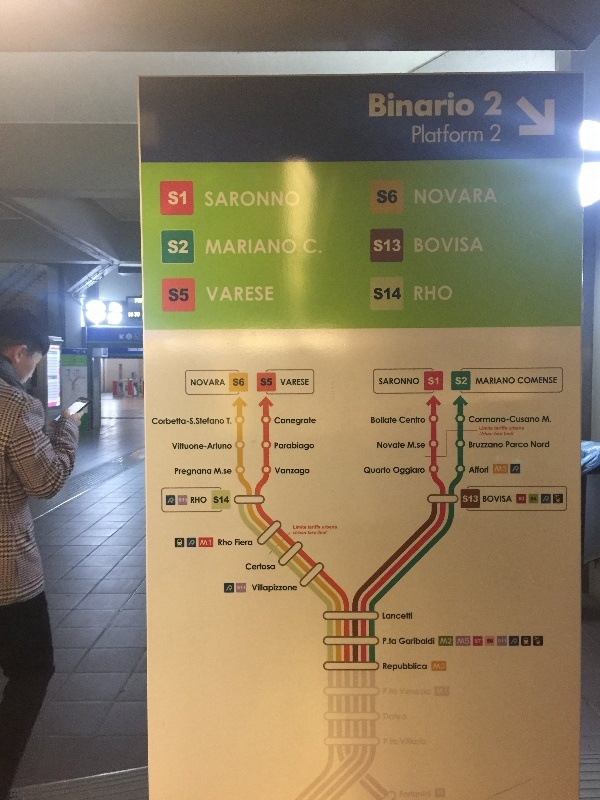text: (369, 90, 384, 121), (385, 90, 400, 121), (401, 90, 416, 121), (417, 90, 432, 121), (433, 90, 448, 121), (449, 90, 464, 121), (417, 124, 432, 148), (433, 124, 448, 148), (449, 124, 464, 148), (465, 124, 480, 148), (484, 89, 496, 118), (465, 90, 476, 121), (209, 189, 224, 211), (225, 189, 240, 211), (241, 189, 256, 211), (257, 189, 272, 211), (273, 189, 288, 211), (305, 238, 320, 259), (209, 284, 224, 304), (225, 284, 240, 304), (241, 284, 256, 304), (257, 284, 272, 304), (209, 238, 224, 257), (225, 238, 240, 257), (241, 238, 256, 257), (257, 238, 272, 257), (273, 238, 288, 257), (417, 186, 432, 205), (433, 186, 448, 205), (449, 186, 464, 205), (465, 186, 480, 205), (481, 186, 496, 205), (417, 236, 432, 254), (433, 236, 448, 254), (449, 236, 464, 254), (465, 236, 480, 254), (289, 189, 301, 211), (385, 238, 401, 253), (385, 286, 400, 301), (417, 286, 432, 301), (433, 286, 448, 301), (385, 189, 398, 205), (497, 89, 504, 118), (177, 287, 189, 302), (289, 238, 298, 257), (177, 240, 189, 254), (177, 190, 187, 206), (374, 238, 384, 253), (374, 286, 384, 301), (385, 662, 400, 672), (401, 662, 416, 672), (289, 442, 304, 452), (401, 415, 416, 425), (369, 466, 384, 476), (401, 466, 416, 476), (209, 417, 225, 426), (177, 442, 192, 451), (193, 442, 208, 451), (209, 442, 224, 451), (481, 415, 496, 424), (497, 415, 512, 424), (513, 415, 528, 424), (401, 790, 416, 799), (417, 790, 432, 799), (385, 713, 400, 722), (161, 417, 176, 426), (177, 417, 192, 426), (193, 417, 208, 426), (177, 468, 192, 477), (193, 468, 208, 477), (257, 584, 272, 593), (273, 584, 288, 593), (289, 417, 304, 426), (289, 467, 304, 476), (385, 377, 400, 386), (401, 377, 416, 386), (385, 441, 400, 450), (490, 123, 496, 145), (275, 442, 288, 452), (371, 415, 384, 425), (168, 190, 176, 206), (513, 441, 529, 449), (497, 495, 513, 503), (226, 417, 240, 426), (481, 377, 496, 385), (497, 377, 512, 385), (529, 376, 544, 384), (481, 441, 496, 449), (545, 495, 560, 503), (401, 738, 416, 746), (401, 688, 416, 696), (417, 688, 432, 696), (385, 612, 400, 620), (401, 637, 416, 645), (417, 637, 432, 645), (513, 637, 528, 645), (257, 563, 272, 571), (289, 378, 304, 386), (385, 415, 397, 425), (385, 687, 398, 696), (275, 417, 288, 426), (275, 467, 288, 476), (168, 240, 176, 254), (377, 189, 384, 205), (465, 495, 479, 503), (193, 496, 207, 504), (417, 662, 428, 672), (169, 287, 176, 302), (193, 379, 208, 386), (209, 379, 224, 386), (531, 440, 544, 448), (515, 465, 528, 473), (483, 495, 496, 503), (385, 738, 398, 746), (435, 662, 448, 670), (305, 442, 315, 452), (455, 376, 464, 387), (469, 415, 480, 424), (529, 415, 540, 424), (261, 378, 272, 387), (305, 417, 316, 426), (412, 124, 416, 148), (545, 376, 557, 384), (401, 612, 413, 620), (241, 539, 253, 547), (417, 415, 426, 425), (204, 189, 208, 211), (497, 123, 501, 145), (469, 441, 480, 449), (213, 496, 224, 504), (385, 638, 397, 645), (228, 585, 240, 592), (471, 465, 480, 474), (289, 584, 298, 593), (204, 284, 208, 304), (518, 376, 528, 384), (417, 738, 427, 746), (438, 688, 448, 696), (246, 563, 256, 571), (417, 466, 425, 476), (179, 497, 192, 503), (225, 442, 233, 451), (481, 124, 484, 148), (481, 236, 485, 254), (481, 465, 489, 474), (152, 417, 160, 426), (215, 467, 224, 475), (417, 441, 426, 449), (497, 466, 507, 473), (498, 639, 512, 644), (233, 377, 240, 387), (322, 525, 336, 530), (393, 466, 400, 476), (433, 376, 439, 387), (531, 496, 544, 501), (225, 539, 233, 547), (280, 378, 288, 386), (408, 441, 416, 449), (377, 441, 384, 450), (449, 286, 453, 301), (481, 426, 493, 431), (513, 426, 525, 431), (481, 432, 493, 437), (308, 525, 320, 530), (308, 531, 320, 536), (385, 466, 391, 476), (545, 415, 552, 423), (497, 441, 504, 449), (225, 467, 232, 475), (497, 426, 508, 431), (293, 525, 304, 530), (427, 376, 432, 387), (401, 713, 407, 722), (378, 377, 384, 386), (294, 531, 304, 536), (441, 638, 448, 645), (201, 539, 208, 546), (506, 441, 512, 449), (458, 637, 464, 645), (218, 539, 224, 547), (413, 286, 416, 301), (487, 639, 496, 644), (305, 467, 310, 476), (401, 441, 406, 450), (321, 238, 323, 259), (170, 497, 176, 504), (273, 284, 275, 304), (504, 432, 512, 437), (545, 440, 550, 448), (518, 497, 528, 501), (465, 637, 470, 645), (241, 377, 245, 387), (235, 539, 240, 547), (364, 466, 368, 476), (206, 238, 208, 257), (414, 186, 416, 205), (172, 442, 176, 451), (414, 236, 416, 254), (497, 431, 503, 437), (252, 584, 256, 593), (465, 376, 468, 387), (225, 496, 229, 504), (305, 378, 309, 386), (475, 638, 480, 644), (241, 585, 246, 591), (209, 468, 212, 477), (477, 377, 480, 385), (513, 377, 516, 385), (193, 539, 196, 547), (273, 563, 276, 571), (321, 531, 327, 535), (303, 238, 304, 259), (449, 638, 452, 645), (209, 539, 212, 546), (497, 186, 498, 205), (237, 585, 240, 591), (417, 377, 419, 386), (433, 637, 435, 645), (401, 286, 402, 301), (509, 426, 512, 431), (494, 426, 496, 431), (383, 662, 384, 672), (305, 525, 307, 530), (305, 531, 307, 536), (399, 415, 400, 425), (383, 713, 384, 722), (383, 687, 384, 696), (175, 468, 176, 477), (543, 415, 544, 423), (463, 495, 464, 503), (399, 738, 400, 746), (383, 612, 384, 620), (399, 637, 400, 645), (191, 496, 192, 504), (191, 539, 192, 547), (318, 531, 320, 535), (191, 379, 192, 386), (225, 379, 226, 386), (383, 638, 384, 645), (495, 431, 496, 437), (481, 638, 482, 644), (513, 432, 514, 437)
